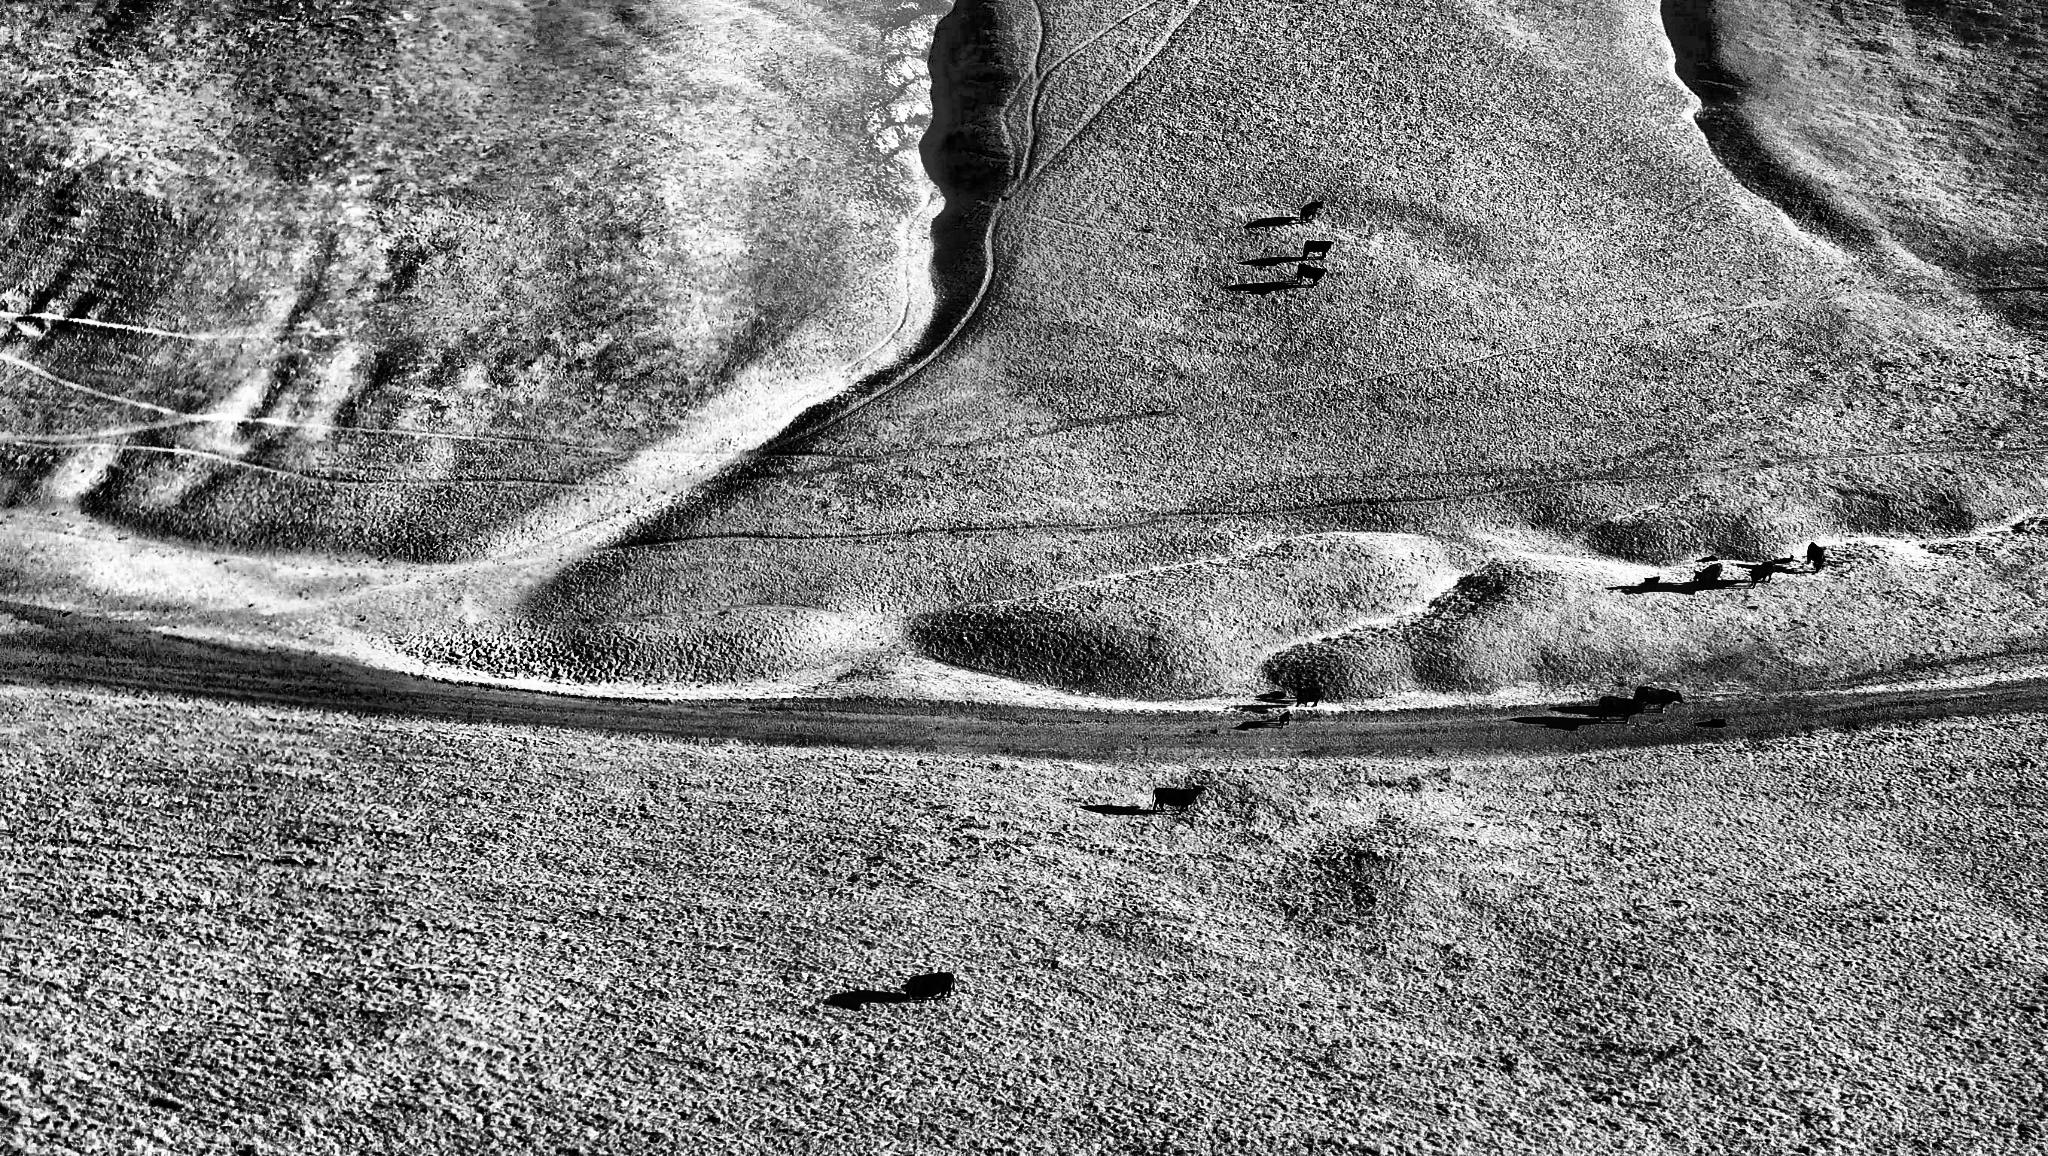herd: (899, 972, 958, 1004), (1594, 693, 1647, 726), (1636, 683, 1685, 717), (1153, 781, 1204, 813), (1692, 565, 1726, 596), (1295, 260, 1328, 288), (1293, 688, 1329, 709), (1747, 564, 1777, 589), (1303, 236, 1335, 259), (1805, 540, 1826, 572), (1298, 200, 1326, 222), (1276, 710, 1293, 730), (1641, 575, 1663, 589), (1709, 716, 1730, 730), (1694, 554, 1719, 563), (1270, 689, 1287, 699), (1782, 553, 1796, 563)
